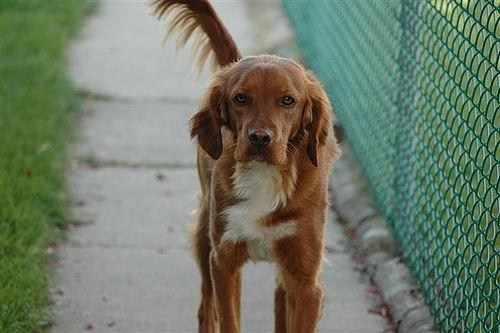Irish_setter: (149, 1, 343, 332)
